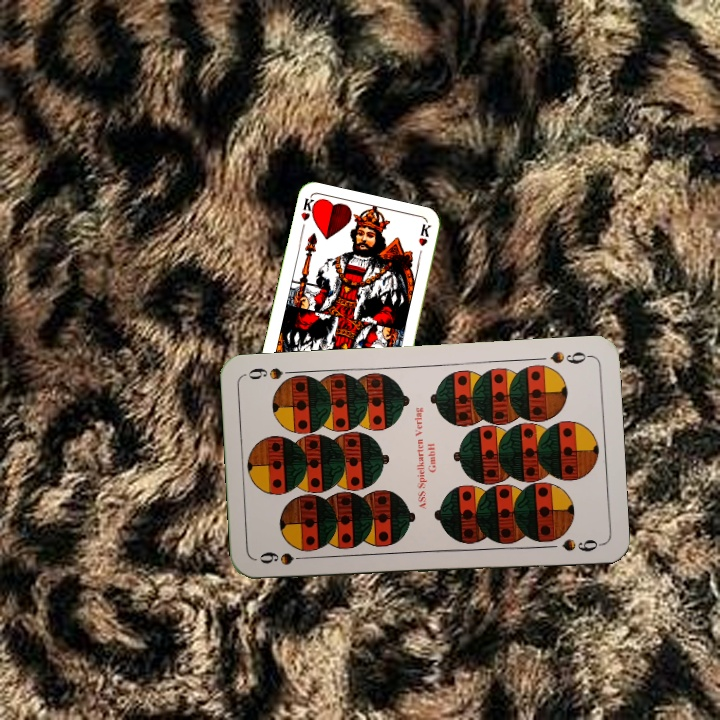HK: (297, 195, 319, 236)
S9: (256, 548, 314, 567), (546, 347, 593, 366)
